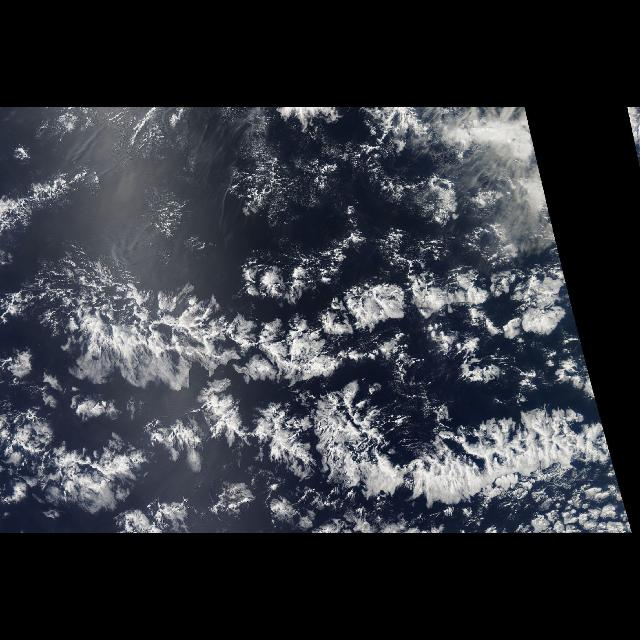Fish: (11, 252, 616, 508)
Flower: (484, 488, 620, 534)
Sugar: (195, 107, 332, 215)
